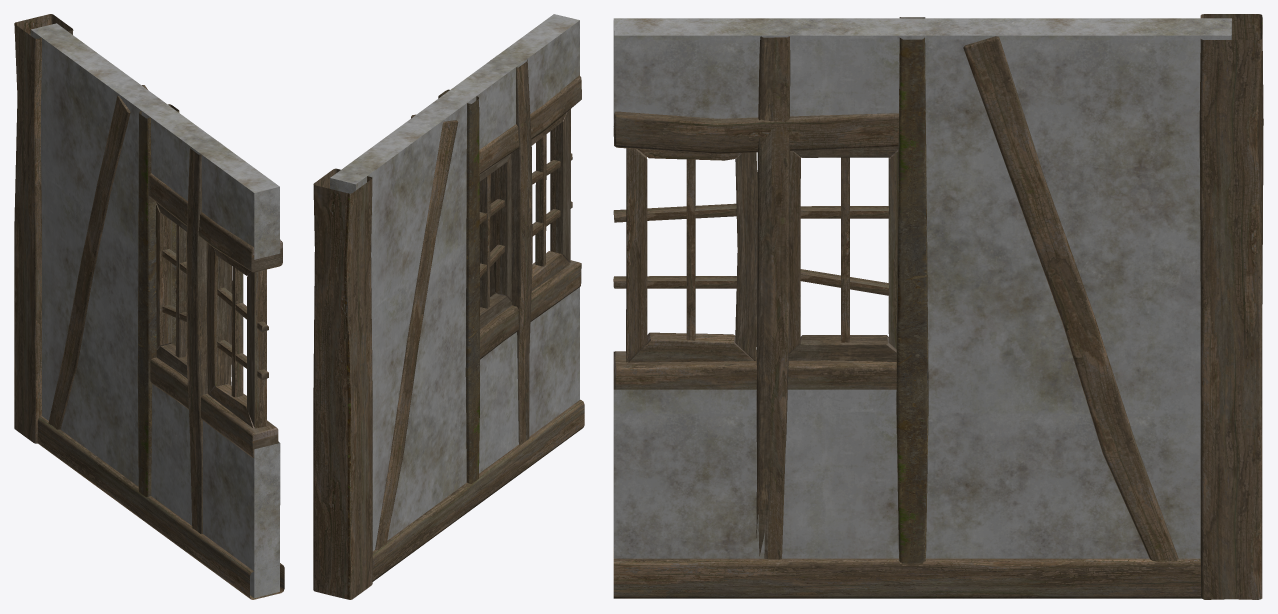
Rendered from SM_Wall38.fbx.
The picture shows the model from 3 angles, left to right: view 1: azimuth 30°, elevation 25°; view 2: azimuth 150°, elevation 25°; view 3: azimuth 270°, elevation 25°; orthographic projection. The views are drawn at different scales.
Parts seen in each view (by area): view 1: SM_Wall38_LOD0; view 2: SM_Wall38_LOD0; view 3: SM_Wall38_LOD0.
Part boxes in pixels (x1,y1,x2,y2): SM_Wall38_LOD0: [14, 14, 284, 599]; SM_Wall38_LOD0: [313, 14, 584, 599]; SM_Wall38_LOD0: [613, 14, 1263, 599].
Size of the model in its own units: 30 by 316 by 301.
